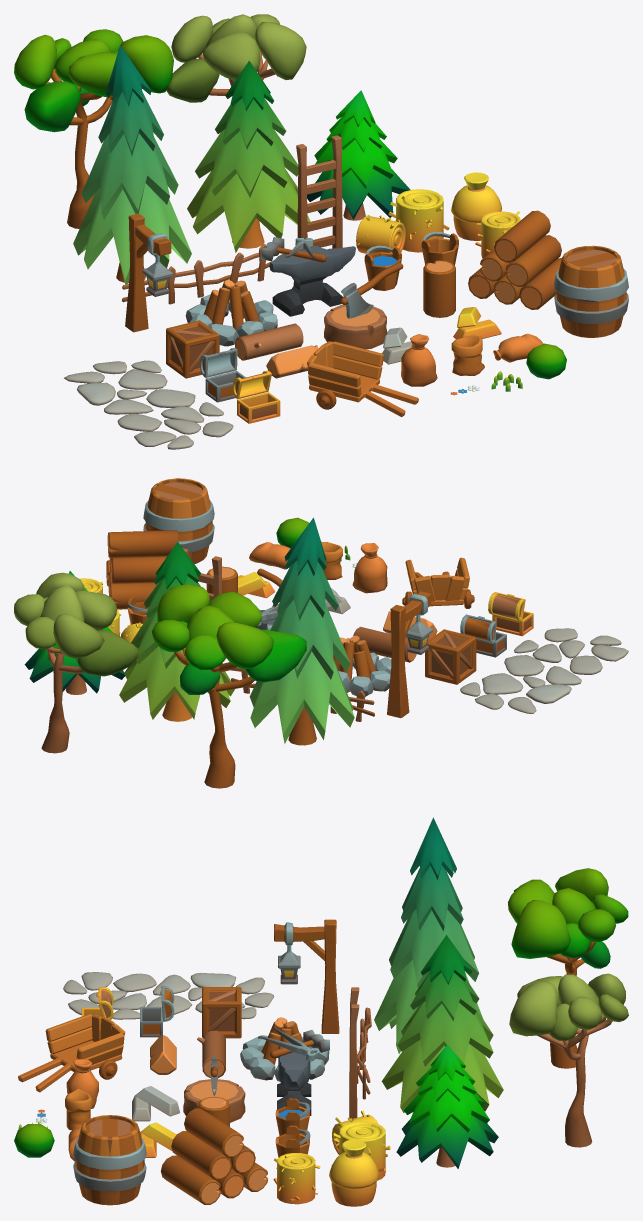
The model's file is medieval_environment_props (source).glb.
3 renders of one model, top to bottom at view 1: azimuth 30°, elevation 25°; view 2: azimuth 150°, elevation 25°; view 3: azimuth 270°, elevation 25°, orthographic. The views are drawn at different scales.
Visible parts, largest first — view 1: Tree_03, Tree_03.1, Tree_01, Tree_02, Stone_road, Tree_03.2, Firewood_04, Barrel, Cart, Haystack_02, Bonfire, Streetlight (+24 smaller); view 2: Tree_01, Tree_03, Tree_02, Stone_road, Tree_03.1, Barrel, Firewood_04, Streetlight, Box, Bonfire, Cart, Tree_03.2 (+14 smaller); view 3: Tree_03.1, Tree_01, Tree_03, Tree_02, Tree_03.2, Firewood_04, Barrel, Stone_road, Cart, Streetlight, Haystack_03, Bonfire (+19 smaller).
Boxes of the visible parts, bbox=[...] form: Tree_03: bbox=[73, 45, 191, 284]; Tree_03.1: bbox=[187, 60, 310, 252]; Tree_01: bbox=[14, 29, 173, 228]; Tree_02: bbox=[166, 14, 306, 102]; Stone_road: bbox=[64, 360, 233, 449]; Tree_03.2: bbox=[307, 90, 410, 220]; Firewood_04: bbox=[468, 210, 561, 309]; Barrel: bbox=[554, 245, 628, 337]; Cart: bbox=[307, 341, 418, 416]; Haystack_02: bbox=[356, 189, 449, 254]; Bonfire: bbox=[185, 280, 277, 346]; Streetlight: bbox=[125, 213, 173, 332]; Tree_01: bbox=[151, 584, 306, 788]; Tree_03: bbox=[249, 517, 354, 745]; Tree_02: bbox=[14, 572, 138, 753]; Stone_road: bbox=[460, 628, 628, 713]; Tree_03.1: bbox=[119, 542, 234, 721]; Barrel: bbox=[143, 478, 214, 563]; Firewood_04: bbox=[106, 530, 178, 609]; Streetlight: bbox=[387, 591, 432, 718]; Box: bbox=[425, 629, 476, 684]; Bonfire: bbox=[333, 635, 391, 696]; Cart: bbox=[402, 557, 474, 608]; Tree_03.2: bbox=[24, 571, 124, 694]; Tree_03.1: bbox=[381, 935, 503, 1112]; Tree_01: bbox=[508, 868, 628, 1068]; Tree_03: bbox=[374, 817, 482, 1053]; Tree_02: bbox=[509, 973, 628, 1147]; Tree_03.2: bbox=[396, 1044, 498, 1168]; Firewood_04: bbox=[160, 1108, 267, 1204]; Barrel: bbox=[73, 1115, 146, 1205]; Stone_road: bbox=[63, 972, 274, 1019]; Cart: bbox=[18, 1014, 125, 1092]; Streetlight: bbox=[274, 919, 339, 1033]; Haystack_03: bbox=[329, 1139, 379, 1206]; Bonfire: bbox=[240, 1017, 329, 1081].
Bounding box in the file's own units: 9.29 × 4.34 × 10.27.
1 material, 1 textured.
